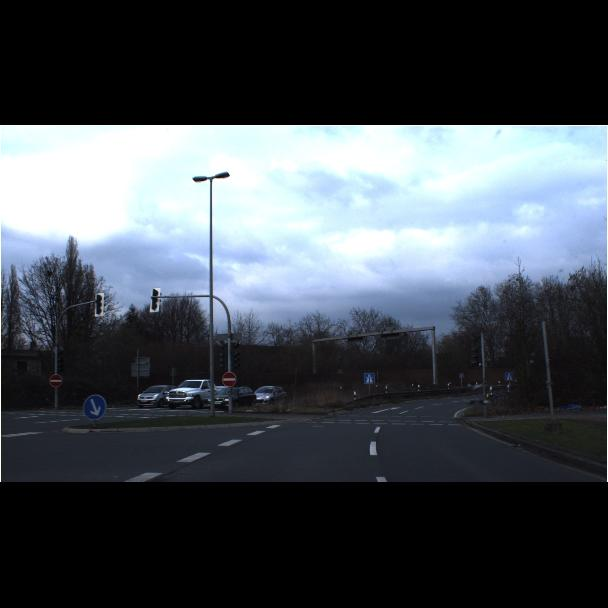keep right: (49, 372, 236, 421)
